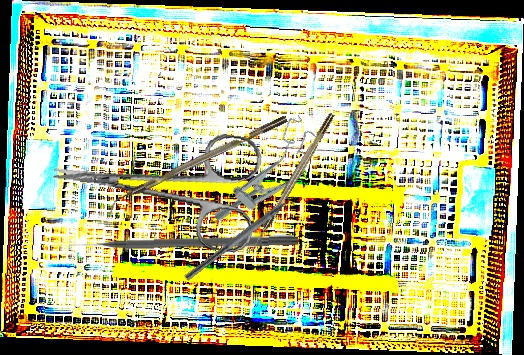Chopper: (102, 115, 293, 216), (183, 185, 310, 290)
Hook Surgical: (247, 112, 337, 253)
Iris Scissors: (44, 111, 266, 255)
Pusher: (67, 232, 299, 251)
Speculum: (205, 112, 331, 241)
